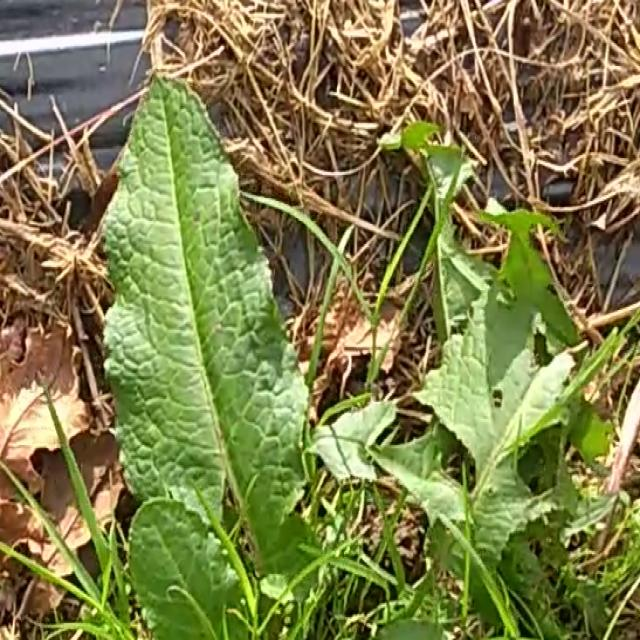organic waste: (65, 67, 561, 640)
